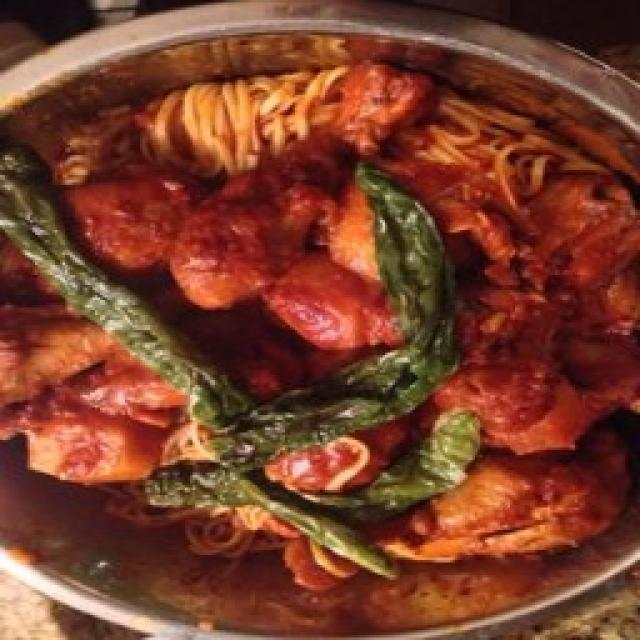Pasta: (0, 62, 640, 592)
